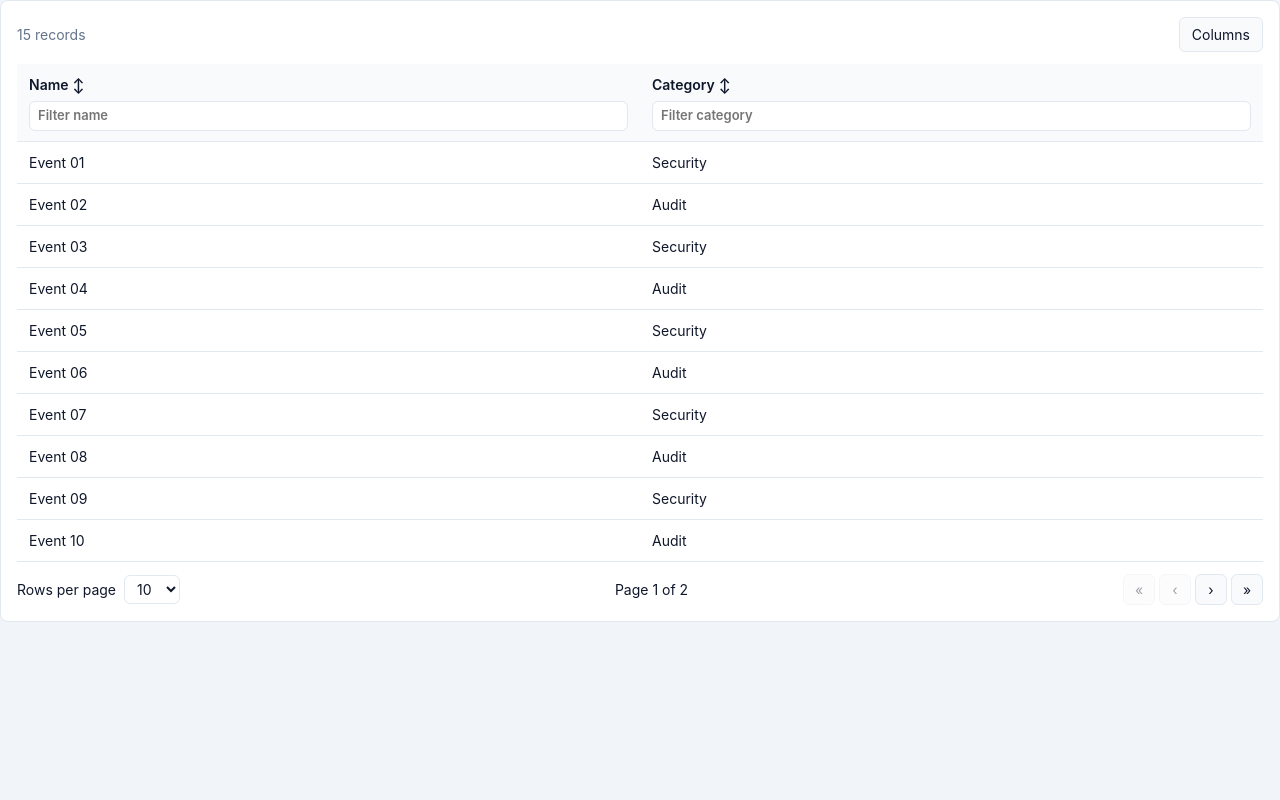
Test: DataGrid › keeps filters visible when nothing matches and allows clearing them
Type "no-match-value" into the search field named "Filter by Name" at coordinates (328, 116), box [29,101,628,130]
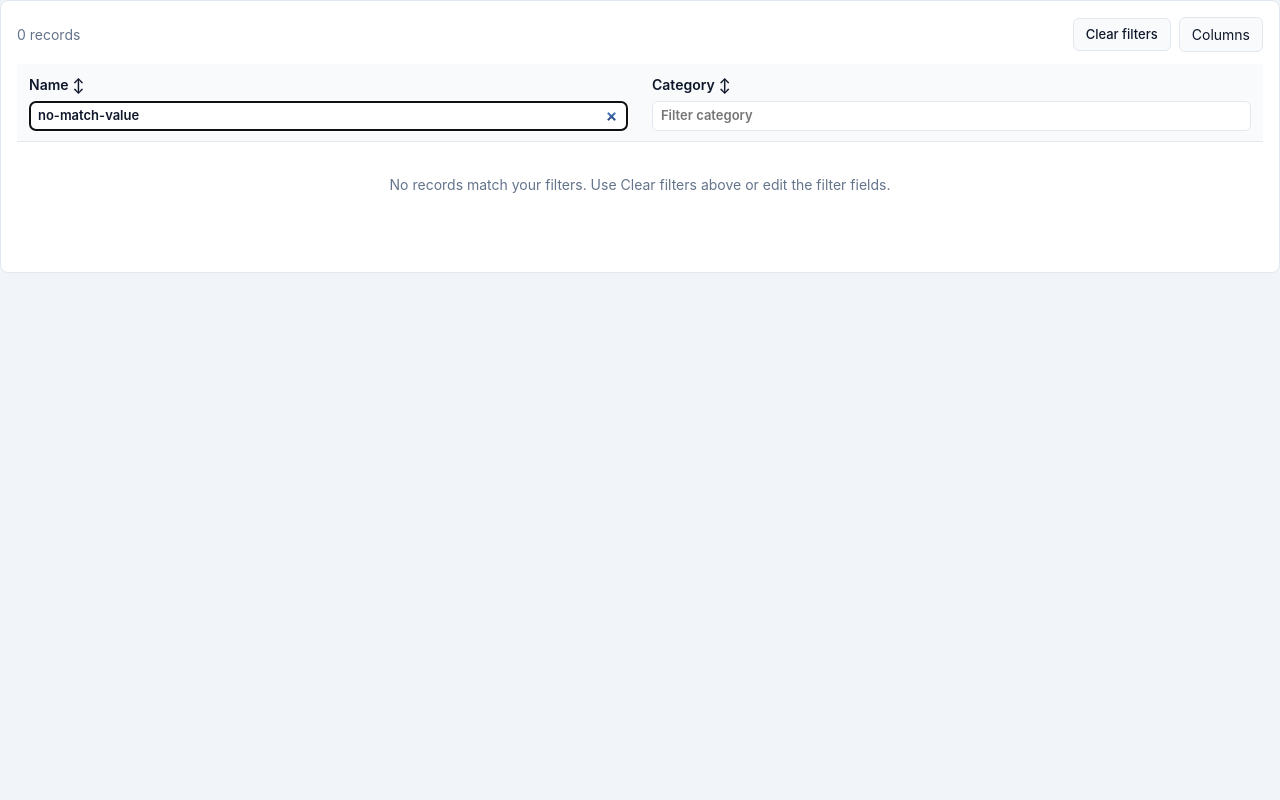
Check: the text "0 records" is shown, box [17,24,80,45]
Check: the text "No records match your filters" is shown, box [390,176,890,192]
Check: the button "Clear filters" is shown
Click the button "Clear filters" at coordinates (1122, 35), box [1073,18,1171,51]
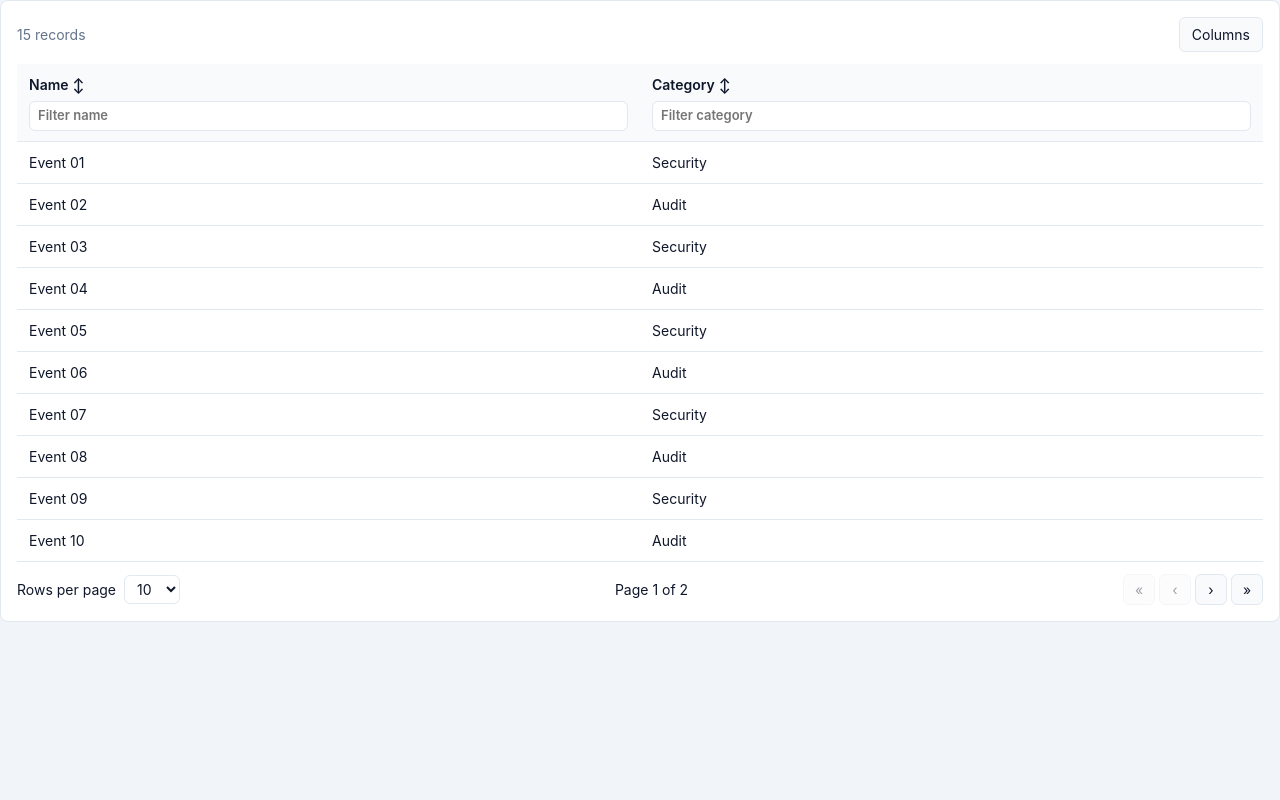
Check: the text "15 records" is shown, box [17,24,86,45]
Check: the text "Event 01" is shown, box [17,141,640,183]
Check: the search field named "Filter by Name" is empty, box [29,101,628,130]
